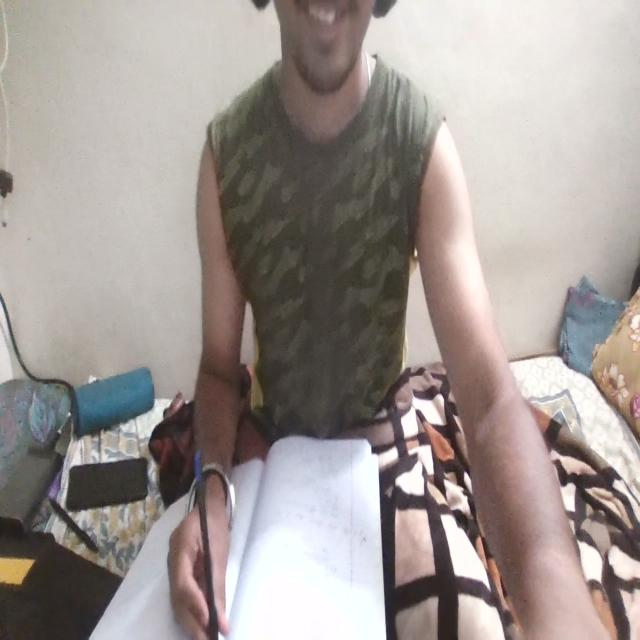pen: (186, 421, 220, 640)
